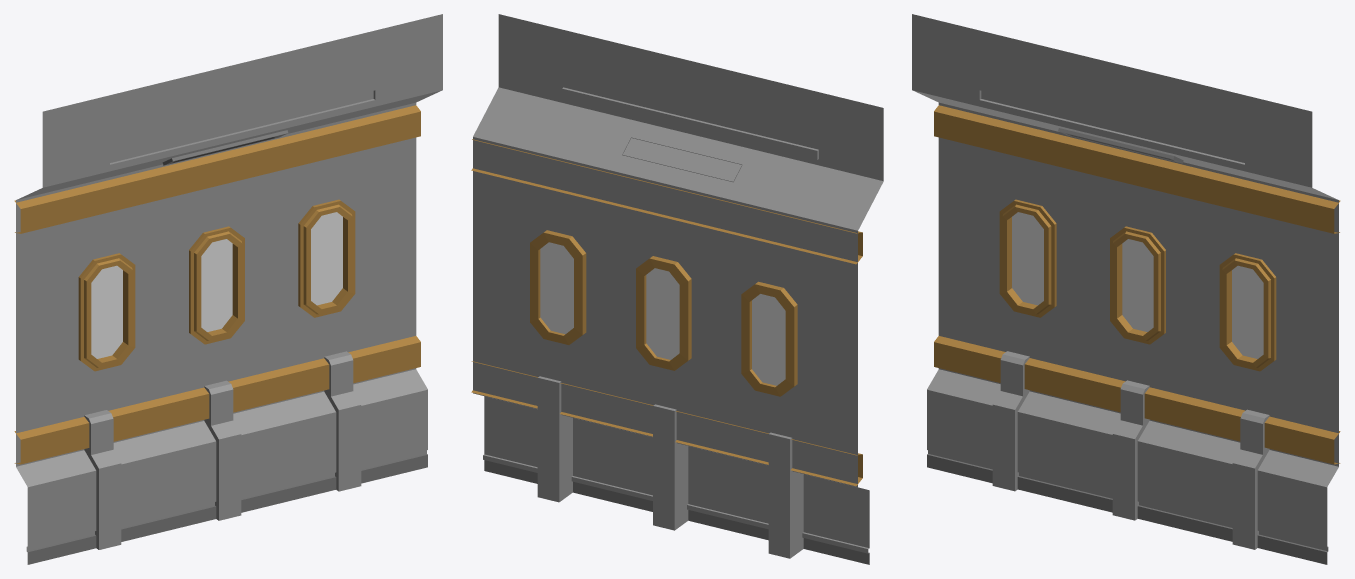
The model's file is ThreeWindows_Wall_SideB.fbx.
3 views of the same model, side by side, from view 1: azimuth 30°, elevation 25°; view 2: azimuth 150°, elevation 25°; view 3: azimuth 330°, elevation 25° (orthographic). The views are drawn at different scales.
Visible parts, largest first — view 1: ThreeWindows_Wall_SideB; view 2: ThreeWindows_Wall_SideB; view 3: ThreeWindows_Wall_SideB.
Boxes of the visible parts, x1,y1,x2,y2 form: ThreeWindows_Wall_SideB: (14,14,442,564); ThreeWindows_Wall_SideB: (471,14,883,564); ThreeWindows_Wall_SideB: (912,14,1340,564).
Size of the model in its own units: 400 by 443 by 52.61.
